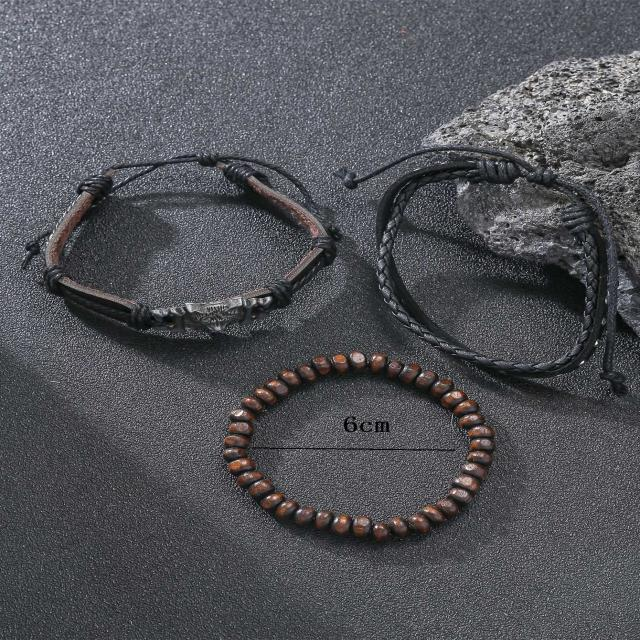bracelet: (188, 312, 592, 574), (333, 89, 640, 408), (0, 86, 360, 351)
